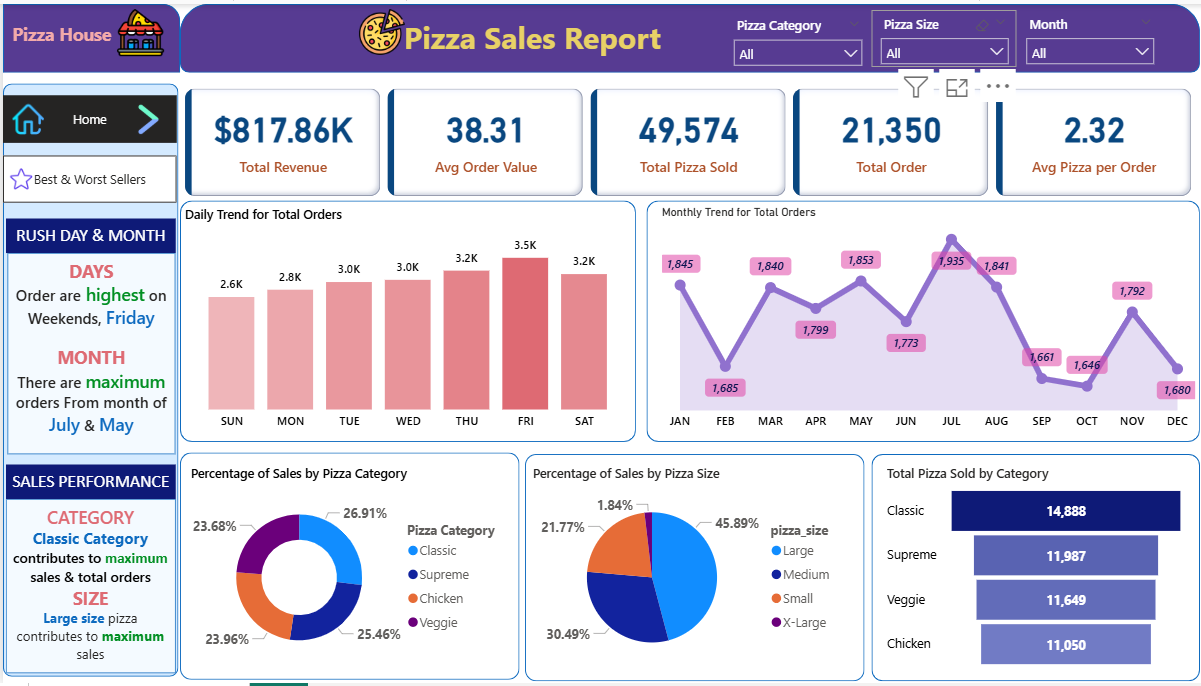

What the dashboard file says about the page in this screenshot:
{"tool":"powerbi","page":{"name":"Home","canvas":[1280,720],"ordinal":0},"visuals":[{"type":"cardVisual","fields":{"Data":["_Measure_Table.Total_Revenue","_Measure_Table.Avg Order Value","_Measure_Table.Total_Pizza_Sold","_Measure_Table.Total_Order","_Measure_Table.Avg Pizza per Order"]},"box":[187.8,84.2,1081.6,124.7],"z":0},{"type":"shape","box":[187.8,0,1081.6,72.9],"z":1000},{"type":"textbox","box":[419.9,8,313.4,60.4],"z":2000},{"type":"shape","box":[0,0,187.8,72.9],"z":3000},{"type":"shape","box":[187.7,208.4,483.5,256.1],"z":4000},{"type":"shape","box":[682.4,208.4,586.9,256.1],"z":5000},{"type":"shape","box":[0,84.3,186,629],"z":6000},{"type":"shape","box":[187.8,476.1,360,241],"z":7000},{"type":"shape","box":[553.3,476.7,360,241],"z":8000},{"type":"shape","box":[921.7,476.7,348.3,241],"z":9000},{"type":"columnChart","title":"Daily Trend for Total Orders","fields":{"Category":["Calendar_Table.Order Day"],"Y":["_Measure_Table.Total_Order"]},"box":[187.7,213.1,483.5,246.5],"z":10000},{"type":"areaChart","title":"Monthly Trend for Total Orders","fields":{"Category":["Calendar_Table.Month Name"],"Y":["_Measure_Table.Total_Order"]},"box":[693.5,213.1,575.8,246.5],"z":11000},{"type":"donutChart","title":"Percentage of Sales by Pizza Category","fields":{"Y":["_Measure_Table.Total_Revenue"],"Category":["pizza_sales.pizza_category"]},"box":[194.4,488.1,348.4,220.8],"z":12000},{"type":"pieChart","title":"Percentage of Sales by Pizza Size","fields":{"Category":["pizza_sales.pizza_size"],"Y":["_Measure_Table.Total_Revenue"]},"box":[557,488.1,342.3,220.8],"z":13000},{"type":"funnel","title":"Total Pizza Sold by Category","fields":{"Category":["pizza_sales.pizza_category"],"Y":["_Measure_Table.Total_Pizza_Sold"]},"box":[932.1,488.3,326.1,221.1],"z":14000},{"type":"textbox","box":[3.2,227.5,179.7,36.6],"z":15000},{"type":"textbox","box":[4.8,264,178.1,213.1],"z":16000},{"type":"textbox","box":[3.2,488.3,179.7,36.6],"z":17000},{"type":"textbox","box":[3.2,524.9,179.7,184.5],"z":18000},{"type":"slicer","fields":{"Values":["pizza_sales.pizza_size"]},"box":[921,6.4,155,60.4],"z":19000},{"type":"slicer","fields":{"Values":["pizza_sales.pizza_category"]},"box":[765.1,8,155.9,60.4],"z":20000},{"type":"slicer","fields":{"Values":["Calendar_Table.Month Name"]},"box":[1075.3,6.4,155,60.4],"z":21000},{"type":"image","box":[338.8,0,125.7,58.9],"z":22000},{"type":"pageNavigator","box":[0,96.7,184,50],"z":23000},{"type":"pageNavigator","box":[0,160,184,50],"z":24000},{"type":"image","box":[118.3,96.7,70,50],"z":25000},{"type":"textbox","box":[5,15,126.7,45],"z":26000},{"type":"image","box":[100,0,91.7,60],"z":27000},{"type":"image","box":[5,100,43.3,43.3],"z":28000},{"type":"image","box":[0,165,38.3,40],"z":29000}]}

Visuals, with their boxes in screenshot pixels (x1, y1, x2, y2), scaled from the page's 1280x720 canvas onto the 1201x686 screenshot:
cardVisual - _Measure_Table.Total_Revenue x _Measure_Table.Avg Order Value: BBox(176, 80, 1191, 199)
shape: BBox(176, 0, 1191, 69)
textbox: BBox(394, 8, 688, 65)
shape: BBox(0, 0, 176, 69)
shape: BBox(176, 199, 630, 443)
shape: BBox(640, 199, 1191, 443)
shape: BBox(0, 80, 175, 680)
shape: BBox(176, 454, 514, 683)
shape: BBox(519, 454, 857, 684)
shape: BBox(865, 454, 1192, 684)
"Daily Trend for Total Orders" columnChart: BBox(176, 203, 630, 438)
"Monthly Trend for Total Orders" areaChart: BBox(651, 203, 1191, 438)
"Percentage of Sales by Pizza Category" donutChart: BBox(182, 465, 509, 675)
"Percentage of Sales by Pizza Size" pieChart: BBox(523, 465, 844, 675)
"Total Pizza Sold by Category" funnel: BBox(875, 465, 1181, 676)
textbox: BBox(3, 217, 172, 252)
textbox: BBox(5, 252, 172, 455)
textbox: BBox(3, 465, 172, 500)
textbox: BBox(3, 500, 172, 676)
slicer - pizza_sales.pizza_size: BBox(864, 6, 1010, 64)
slicer - pizza_sales.pizza_category: BBox(718, 8, 864, 65)
slicer - Calendar_Table.Month Name: BBox(1009, 6, 1154, 64)
image: BBox(318, 0, 436, 56)
pageNavigator: BBox(0, 92, 173, 140)
pageNavigator: BBox(0, 152, 173, 200)
image: BBox(111, 92, 177, 140)
textbox: BBox(5, 14, 124, 57)
image: BBox(94, 0, 180, 57)
image: BBox(5, 95, 45, 137)
image: BBox(0, 157, 36, 195)
